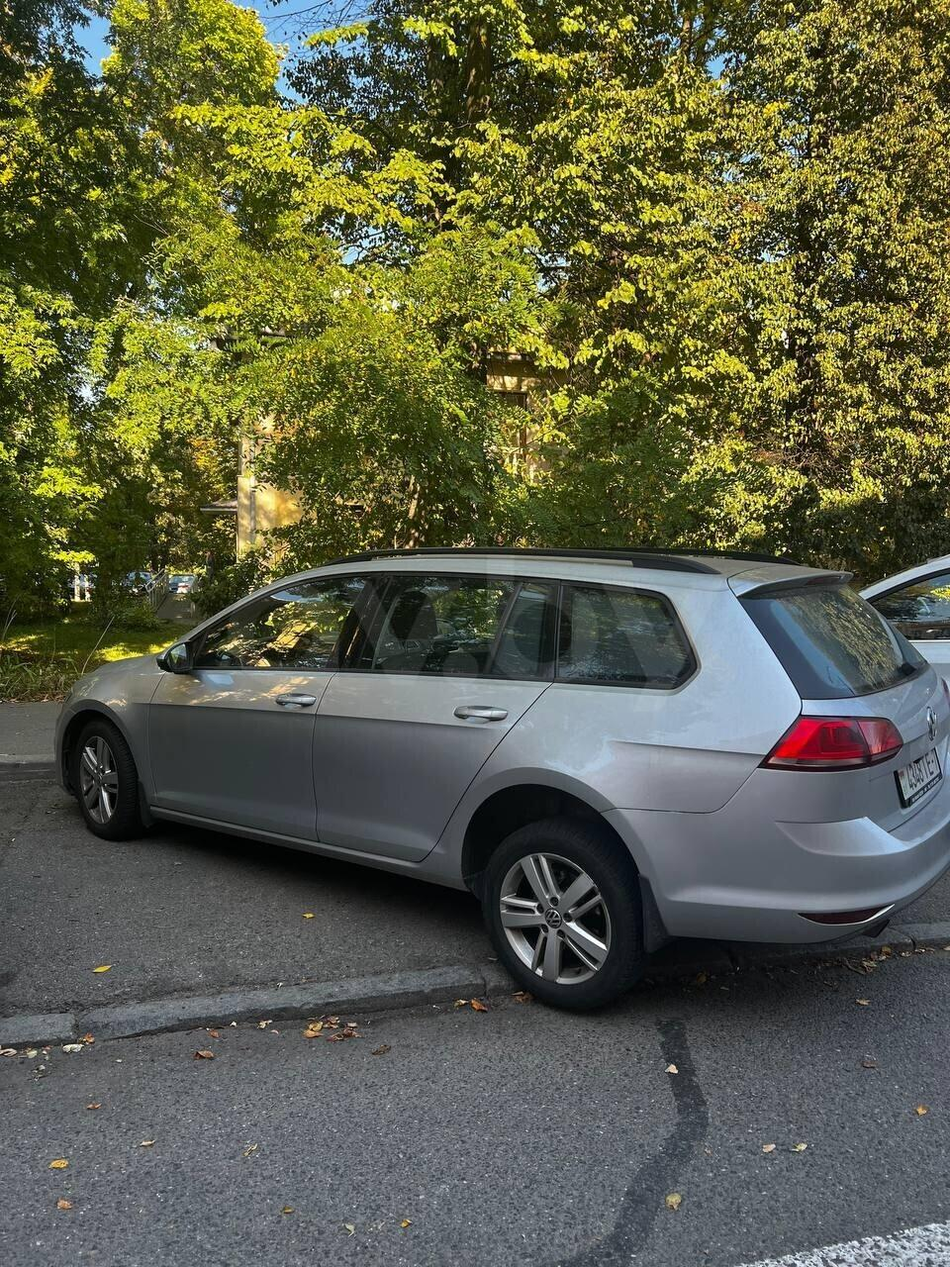Golf_2012-2017: (64, 540, 950, 1013)
